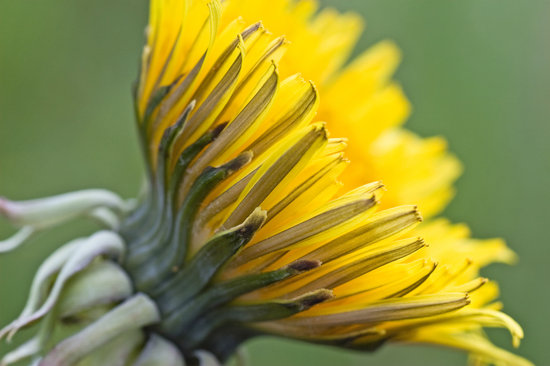dandelion: (133, 21, 498, 333)
